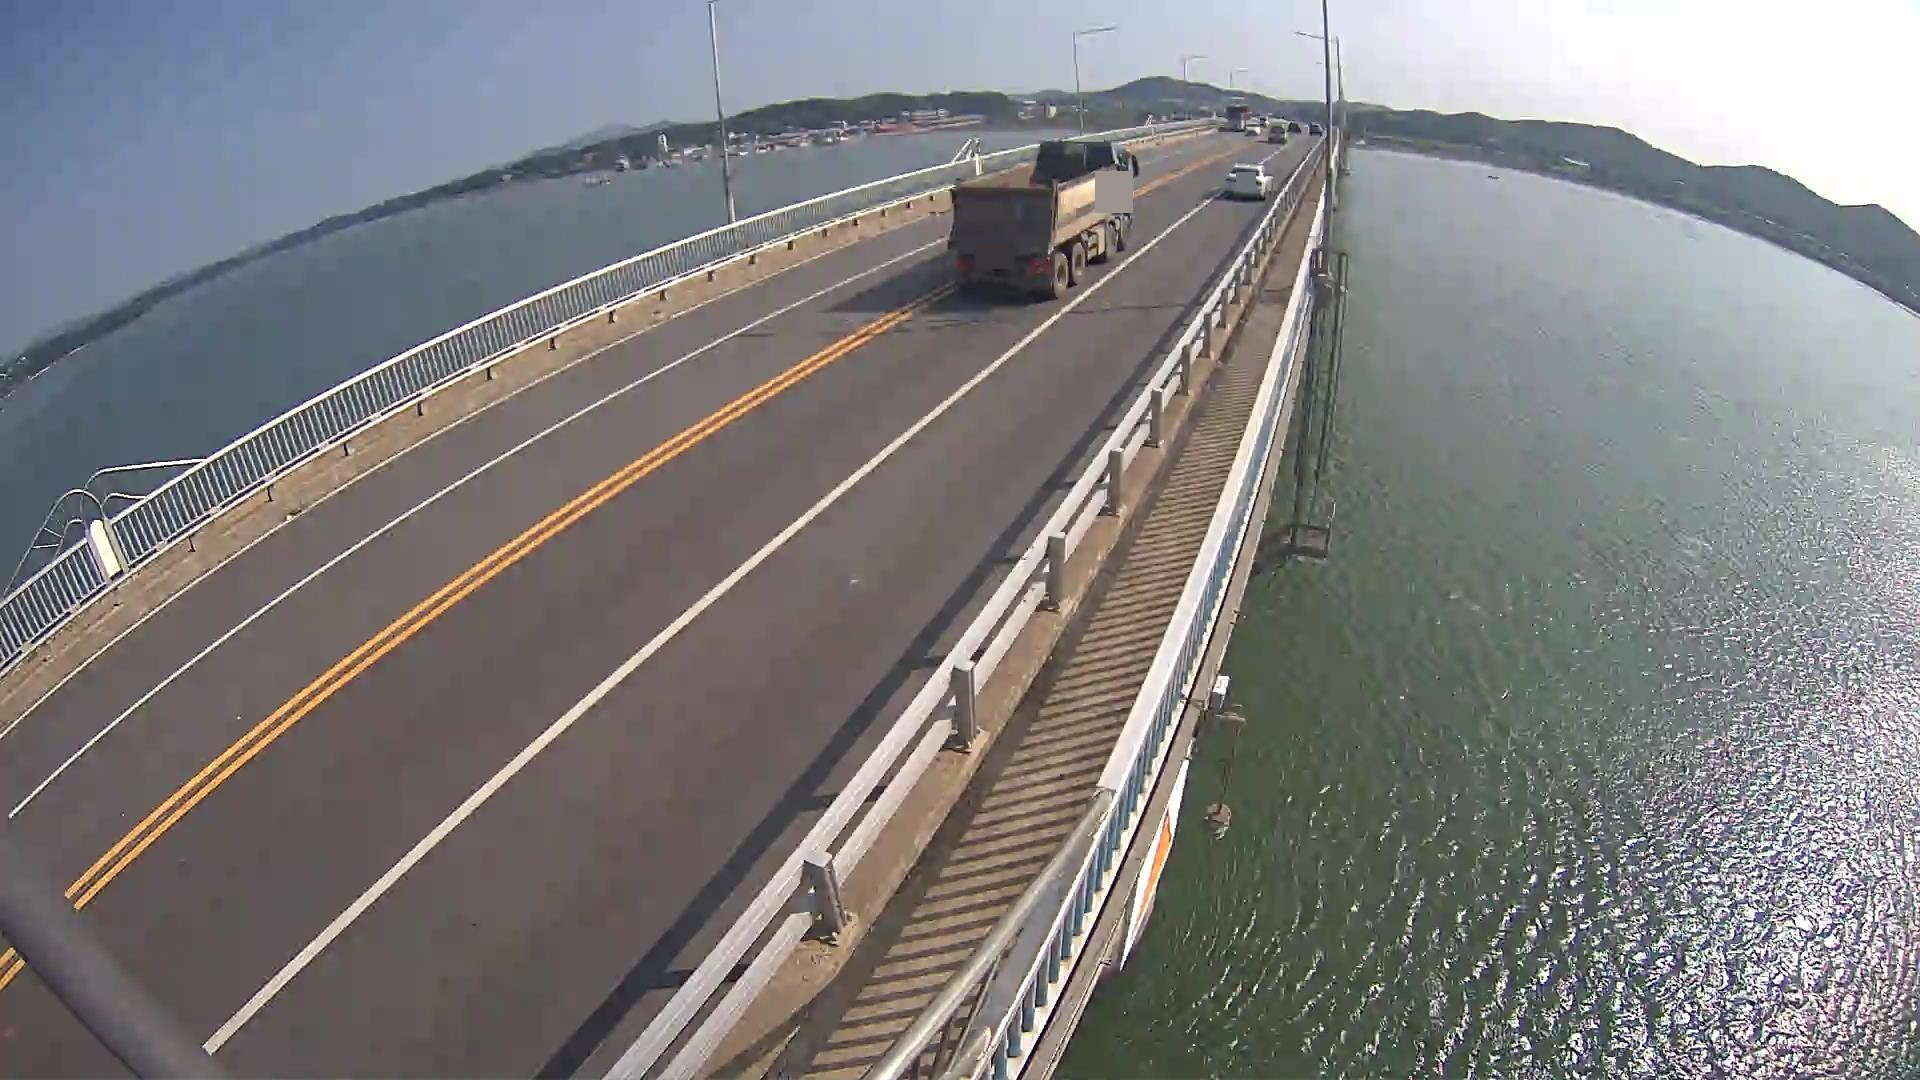정상차량: (947, 137, 1139, 299)
